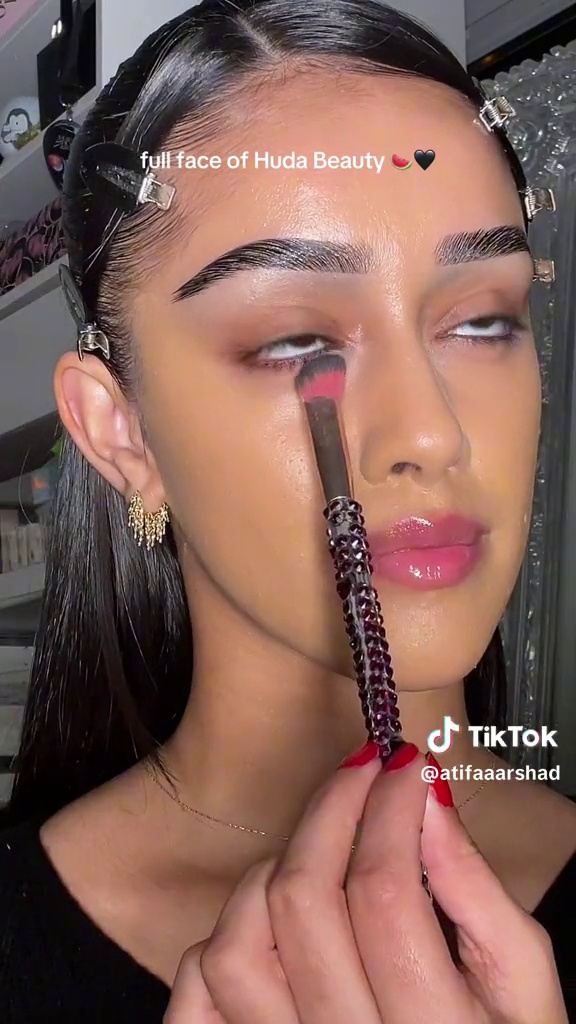train' :'yolo_data/train/images',: (272, 353, 405, 604)
